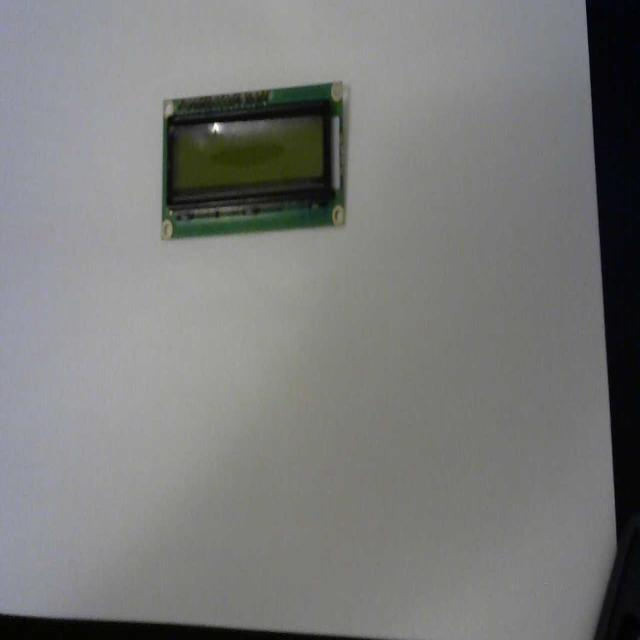lcd: (160, 79, 346, 240)
